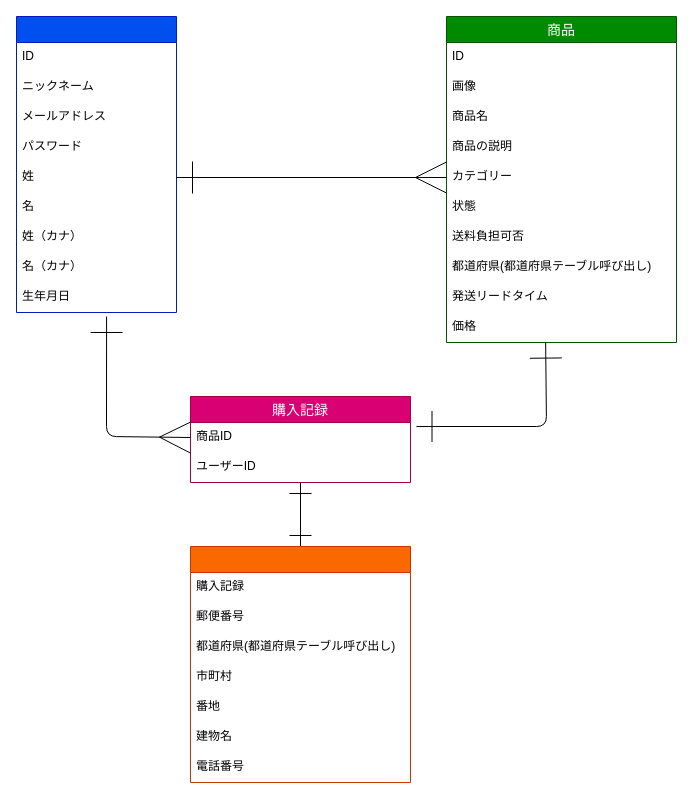
The diagram is 693 pixels wide and 799 high, and some of its shapes have lost their labels. Each missing label, with the box of its shape:
ユーザー情報: (16, 16, 176, 312)
配送先住所: (190, 546, 410, 782)
